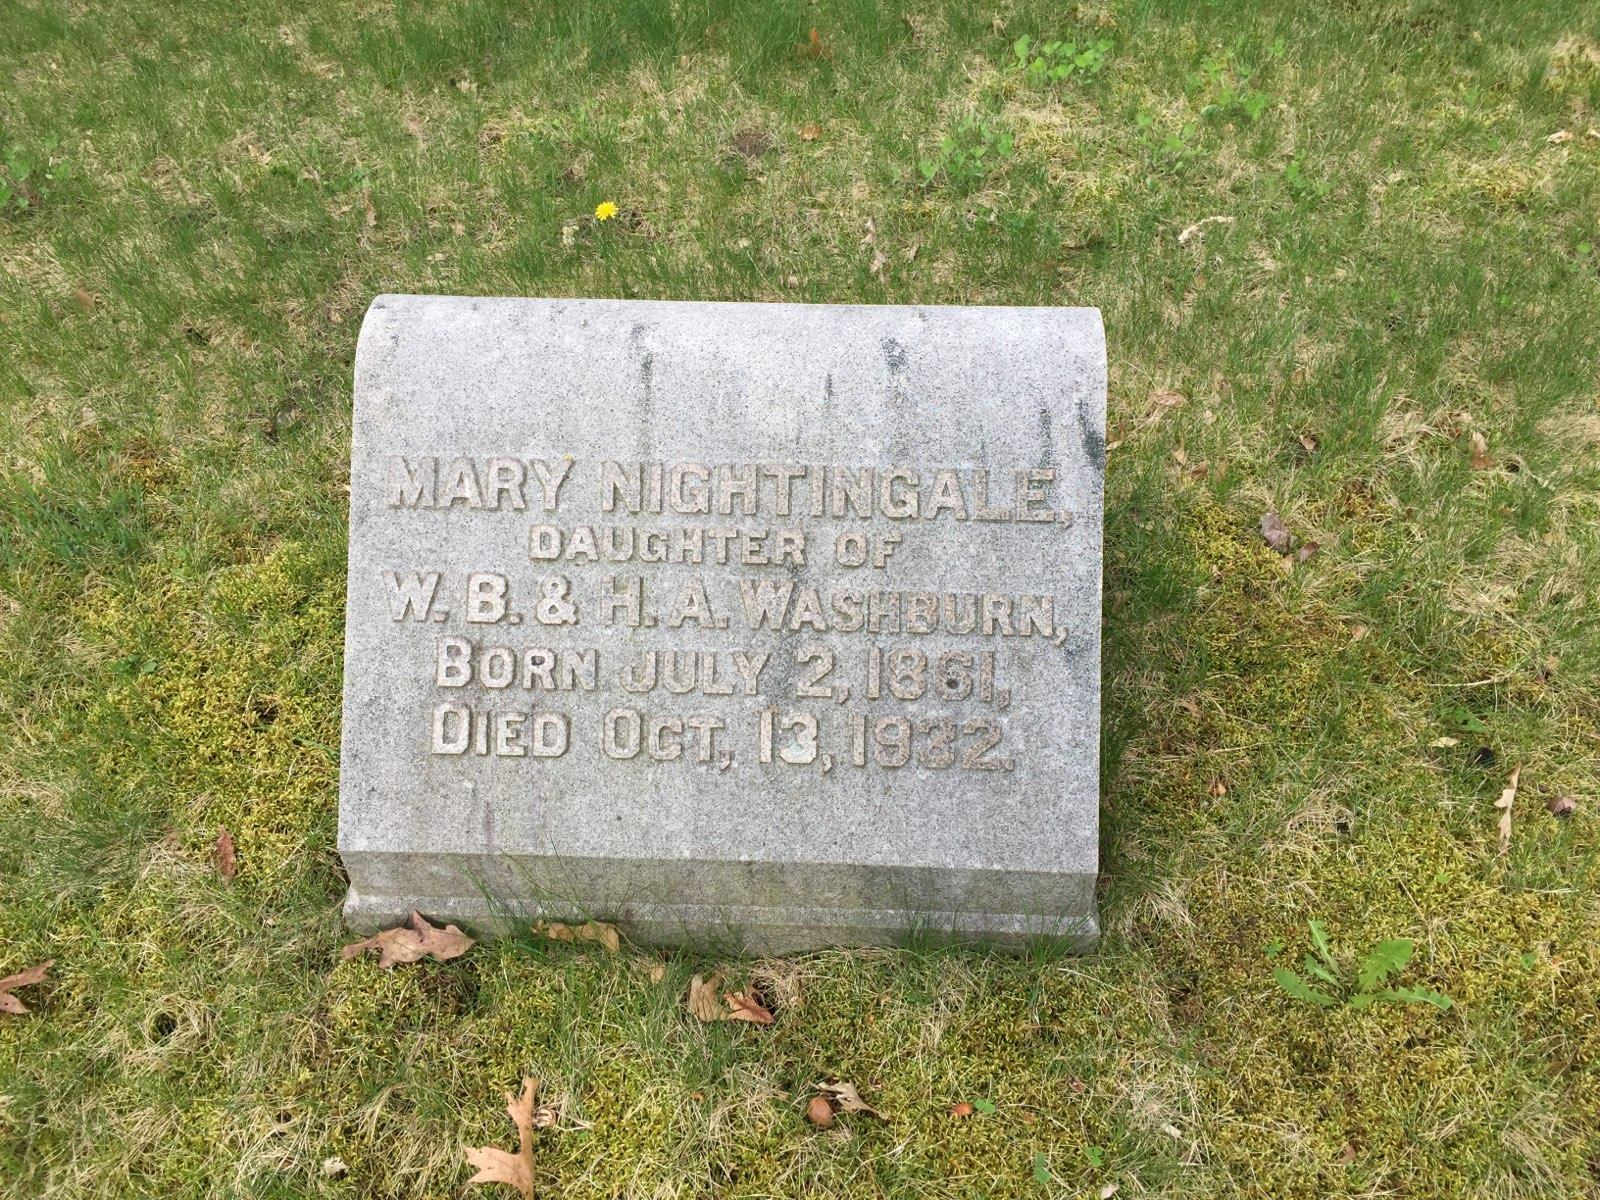slant: (346, 287, 1107, 924)
